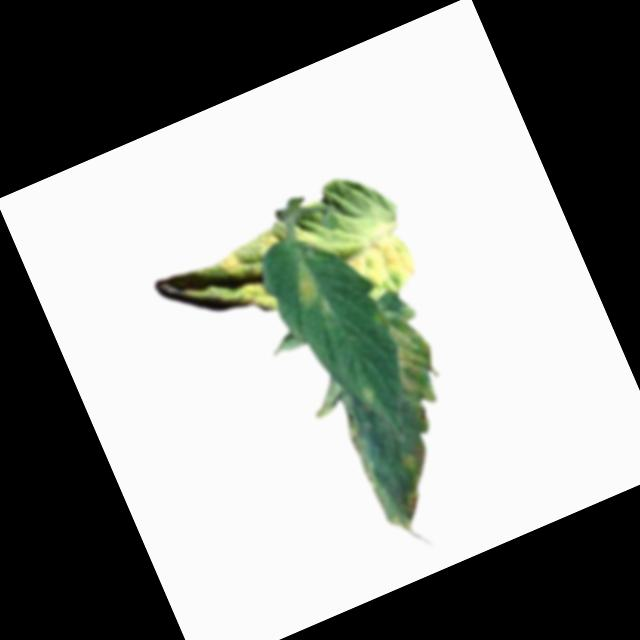Leaf_Mold: (169, 222, 309, 339), (369, 295, 450, 409), (343, 222, 423, 304), (392, 431, 437, 483), (286, 257, 326, 310), (395, 487, 427, 522)
